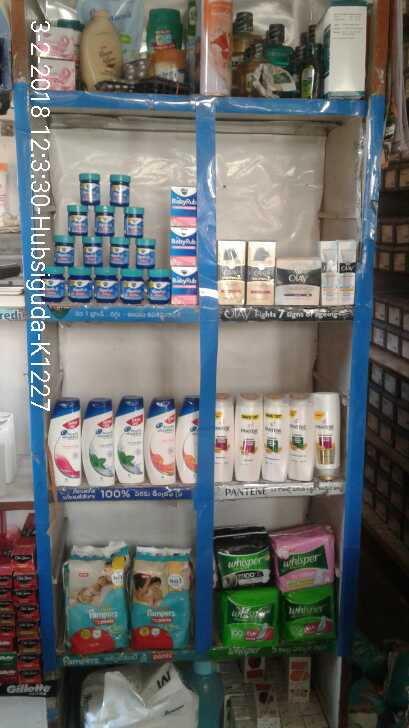vicks: (37, 171, 200, 307)
